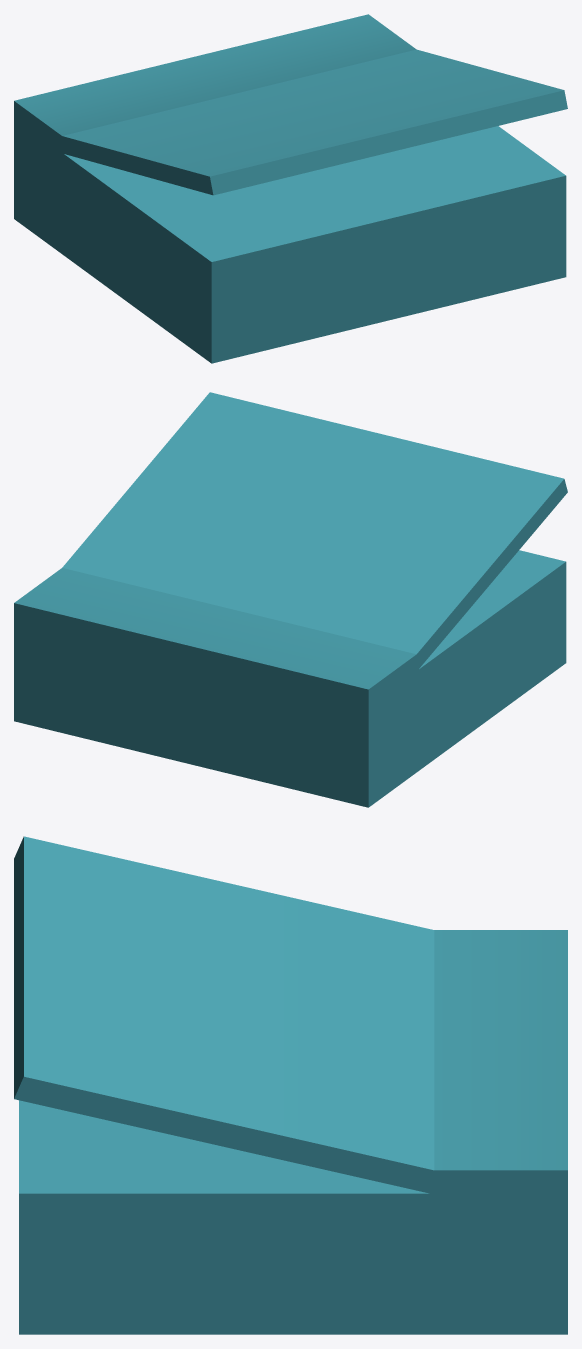
Rendered from SO_StickyNotesPack_03.fbx.
3 renders of one model, top to bottom at view 1: azimuth 30°, elevation 25°; view 2: azimuth 150°, elevation 25°; view 3: azimuth 270°, elevation 25°, orthographic. The views are drawn at different scales.
Parts seen in each view (by area): view 1: SO_StickyNotesPack_03; view 2: SO_StickyNotesPack_03; view 3: SO_StickyNotesPack_03.
Part boxes in pixels (x1=…): SO_StickyNotesPack_03: x1=14, y1=14, x2=567, y2=363; SO_StickyNotesPack_03: x1=14, y1=392, x2=567, y2=807; SO_StickyNotesPack_03: x1=14, y1=836, x2=567, y2=1334.
Size of the model in its own units: 0.195 by 0.0976 by 0.19.
